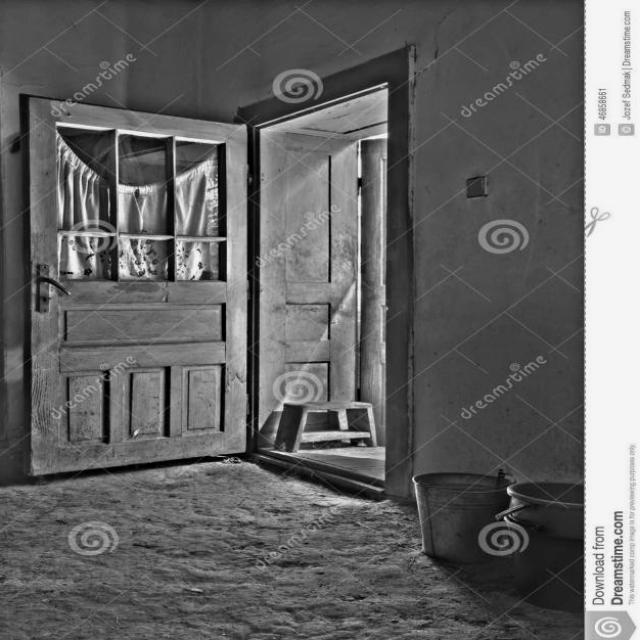door: (21, 93, 249, 477)
